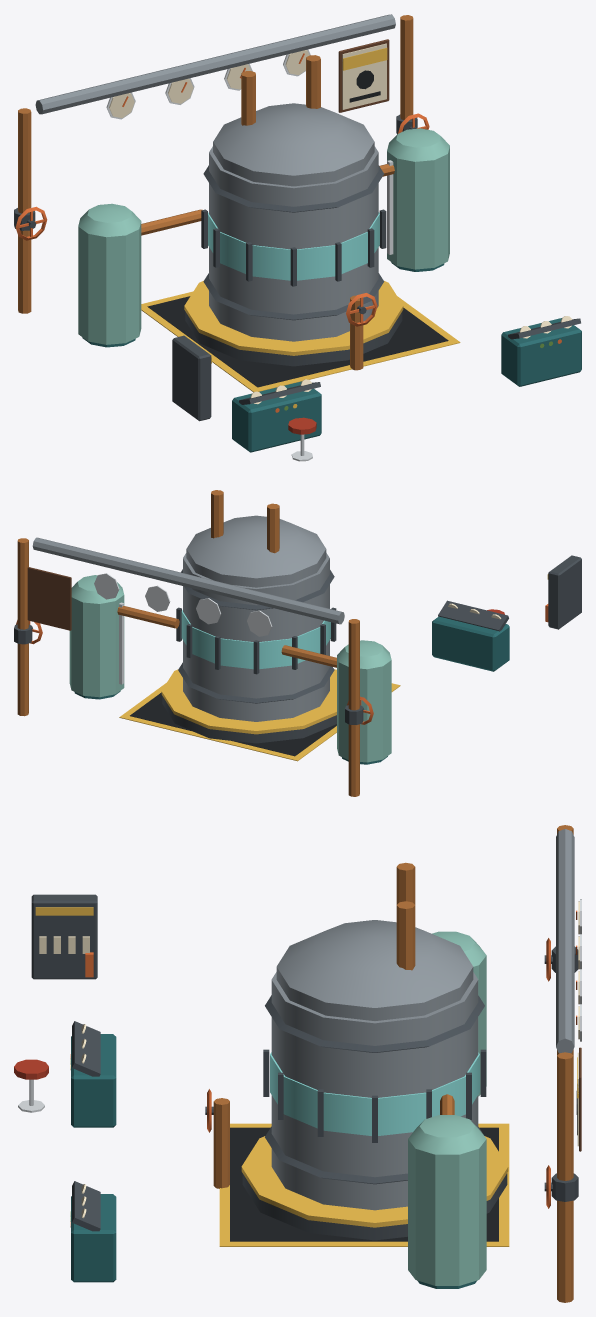
File: Room_ReactorCore_L2.fbx
3 renders of one model, top to bottom at view 1: azimuth 30°, elevation 25°; view 2: azimuth 150°, elevation 25°; view 3: azimuth 270°, elevation 25°, orthographic. The views are drawn at different scales.
Parts seen in each view (by area): view 1: Decor, Vessel, Tank1, Tank2, DecorNeon, Console1, Console2, FuseBox, Plinth, Standpipe; view 2: Decor, Vessel, Tank2, Tank1, DecorNeon, Console1, FuseBox, Plinth; view 3: Decor, Vessel, Tank2, DecorNeon, FuseBox, Console1, Console2, Plinth, Standpipe, Tank1.
Boxes of the visible parts, box(x1,y1,x2,y2) form: Decor: box(14, 14, 580, 461); Vessel: box(209, 146, 378, 341); Tank1: box(78, 222, 141, 344); Tank2: box(387, 146, 449, 269); DecorNeon: box(208, 212, 561, 412); Console1: box(232, 381, 321, 452); Console2: box(501, 318, 581, 386); FuseBox: box(172, 335, 211, 421); Plinth: box(185, 311, 402, 366); Standpipe: box(350, 295, 363, 370); Decor: box(14, 490, 548, 796); Vessel: box(183, 553, 329, 721); Tank2: box(69, 595, 124, 697); Tank1: box(337, 656, 391, 762); DecorNeon: box(181, 610, 330, 669); Console1: box(432, 616, 509, 671); FuseBox: box(548, 555, 581, 629); Plinth: box(162, 696, 336, 743); Decor: box(14, 825, 581, 1302); Vessel: box(271, 972, 478, 1210); Tank2: box(408, 1139, 486, 1285); DecorNeon: box(70, 1052, 479, 1227); FuseBox: box(31, 894, 97, 979); Console1: box(71, 1034, 116, 1127); Console2: box(71, 1194, 116, 1282); Plinth: box(242, 1173, 507, 1240); Standpipe: box(213, 1098, 229, 1188); Tank1: box(473, 956, 486, 1096).
Size of the model in its own units: 30.13 by 16.17 by 27.46.
